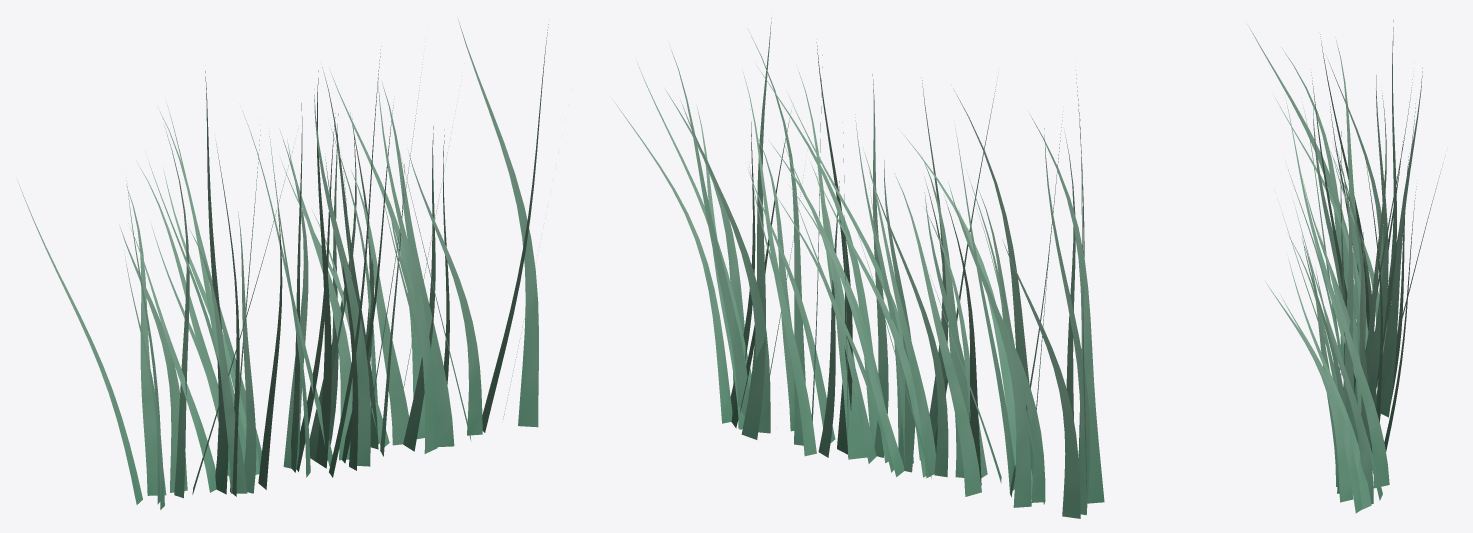
File: mesh-plant-001-riverblade-green_LOD0.glb
The picture shows the model from 3 angles, left to right: view 1: azimuth 30°, elevation 25°; view 2: azimuth 150°, elevation 25°; view 3: azimuth 270°, elevation 25°; orthographic projection. The views are drawn at different scales.
Visible parts, largest first — view 1: geometry_0; view 2: geometry_0; view 3: geometry_0.
Part boxes in pixels (x1,y1,x2,y2): geometry_0: [17, 19, 548, 509]; geometry_0: [612, 18, 1104, 518]; geometry_0: [1247, 20, 1442, 513].
Size of the model in its own units: 2.73 by 1.84 by 1.04.
